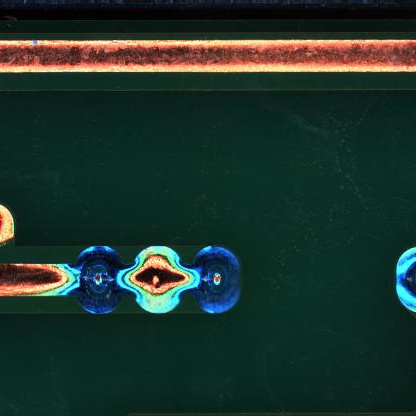spot: (193, 244, 244, 314), (75, 244, 124, 313)
